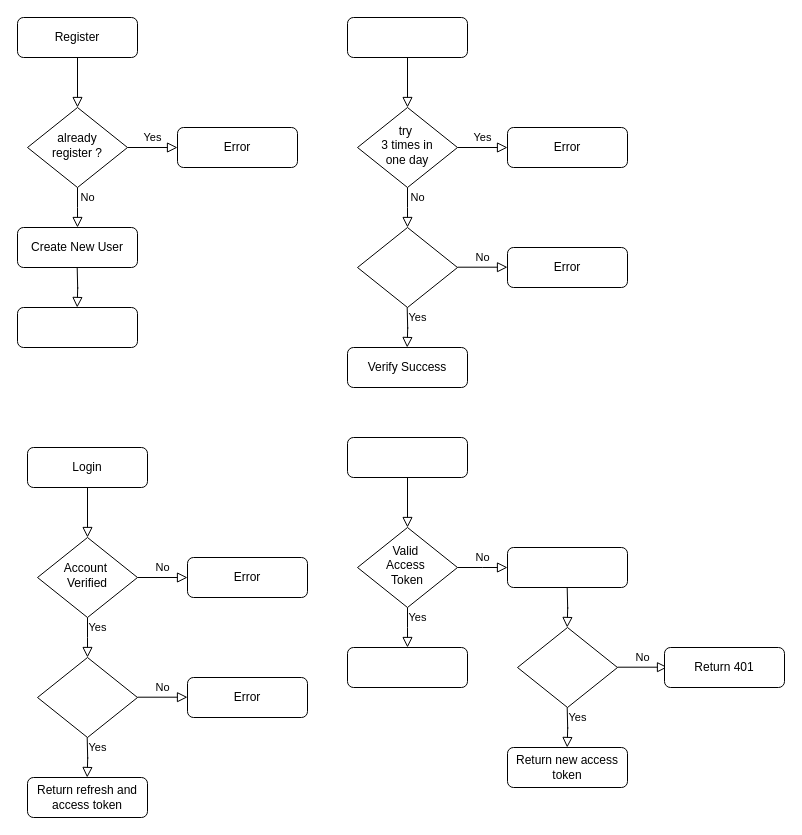
The diagram is 802 pixels wide and 835 high, and some of its shapes have lost their labels. The centre of each missing label's shape, as x and y in pixels:
"Get Access Token Using Refresh token" belongs at [567,567].
"Otp Match" belongs at [407,267].
"Otp Verify" belongs at [407,37].
"refresh token is still valid" belongs at [567,667].
"Return user info" belongs at [407,667].
"Sent Otp" belongs at [77,327].
"Valid Credential" belongs at [87,697].
"Verify Me" belongs at [407,457].
